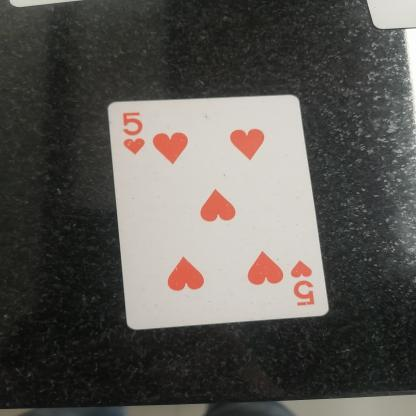5H: (114, 106, 160, 164), (286, 255, 329, 314)
